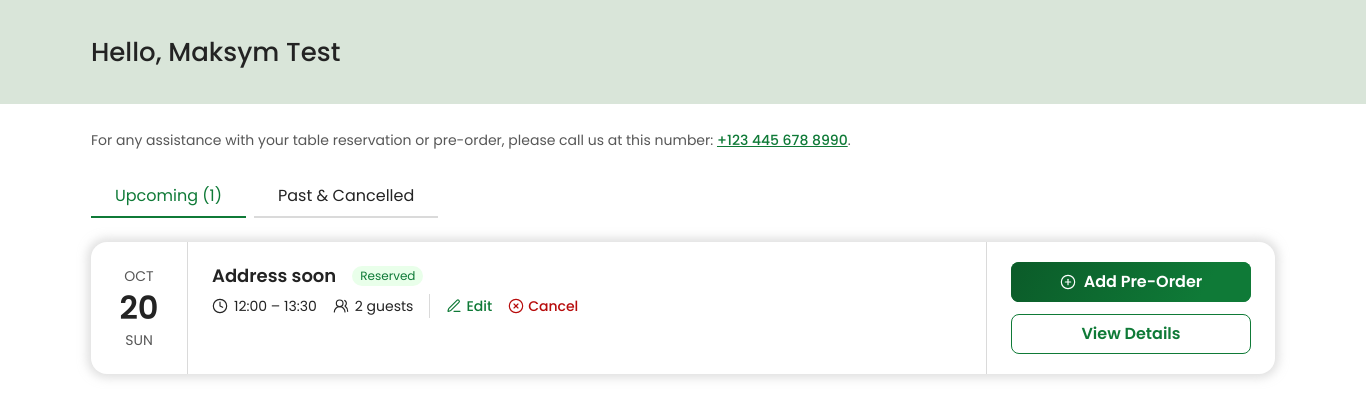
Scenario: ReservationDashboardComponent (US20) › AC8: empty Past & Cancelled tab — message
The width and height of the screenshot is (1366, 397).
What coordinates should you click on to do the following:
click the tab with id "reservations-tab-past"
I would click on:
 (346, 197)
Its box is [254,176,438,218].
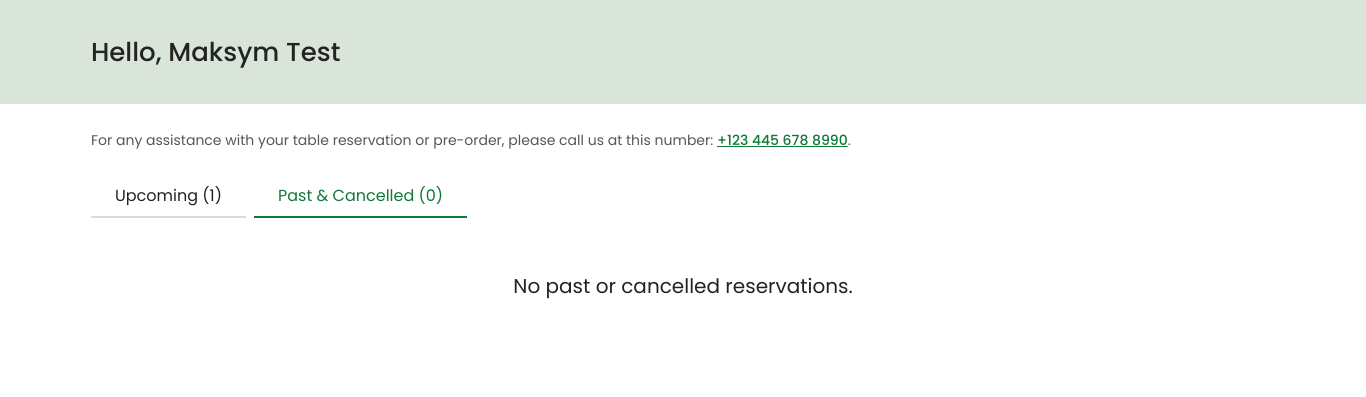
Check: the text "No past or cancelled reservations." is shown, box [513,272,853,300]
